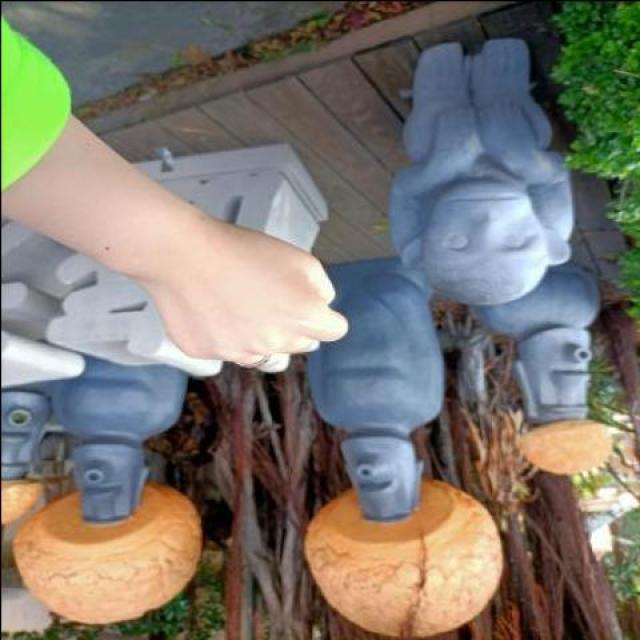fist: (144, 192, 359, 388)
